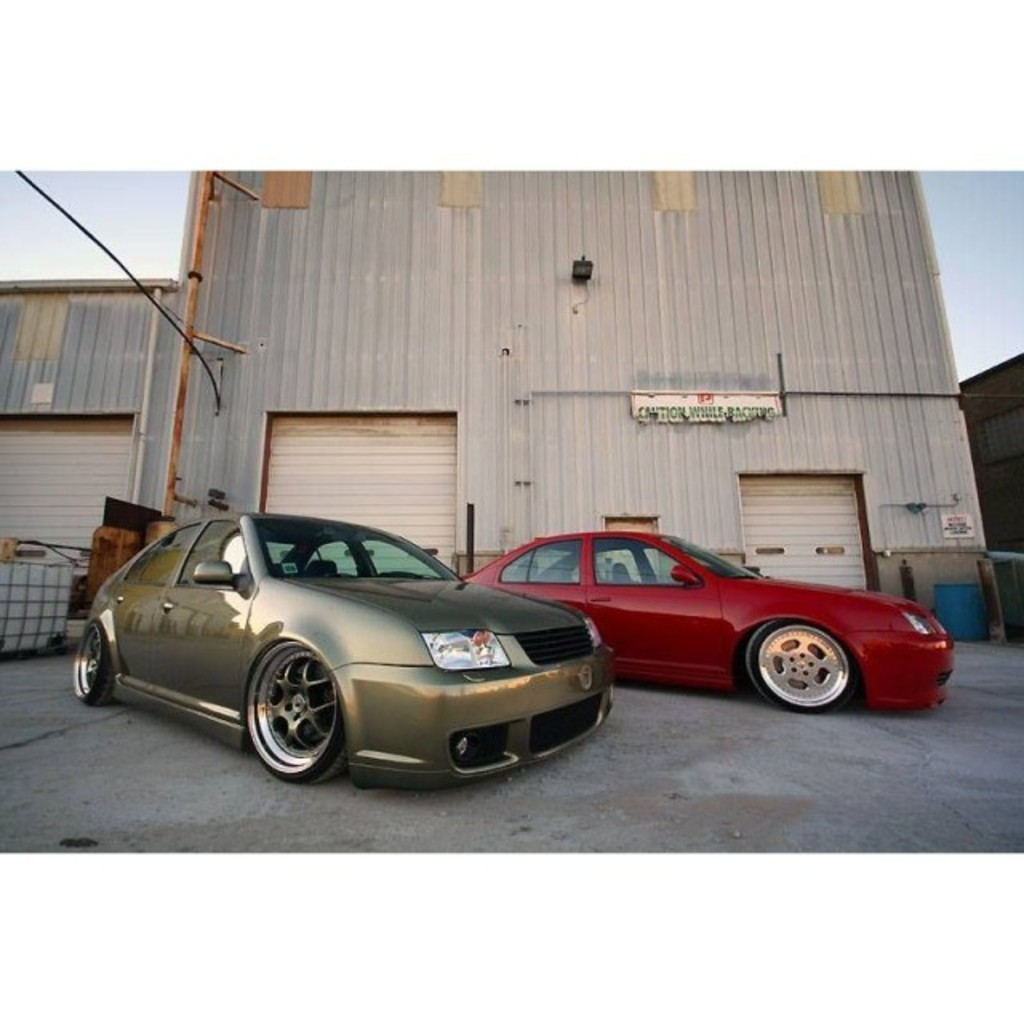Car: (67, 494, 646, 792), (457, 528, 952, 710)
